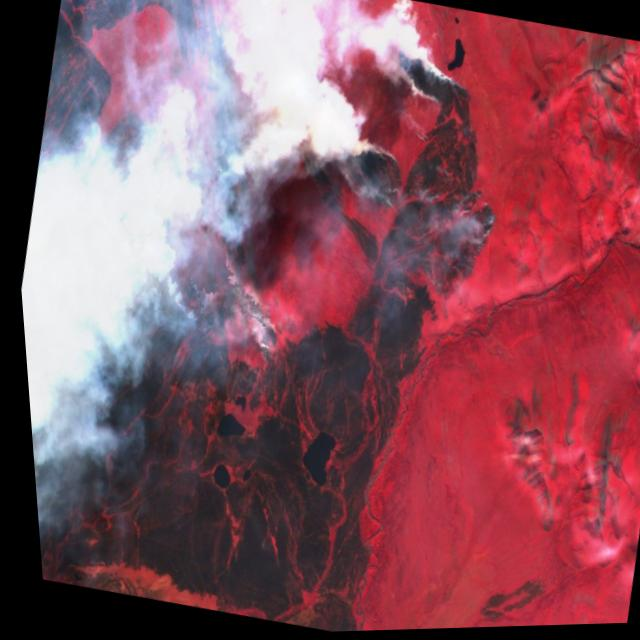fire: (261, 34, 531, 323), (218, 302, 291, 410)
